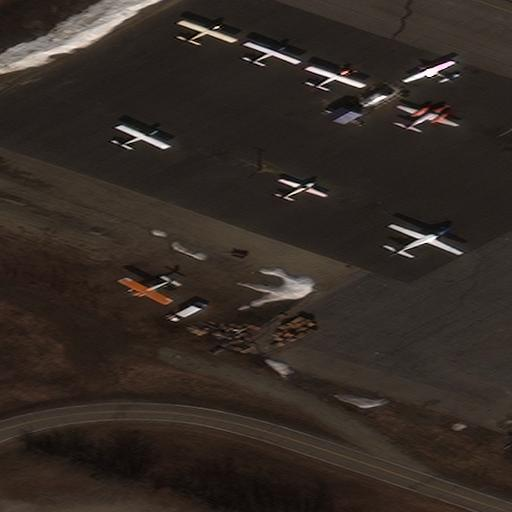Medium Civil Transport: (390, 223, 462, 256)
Small Civil Transport: (397, 104, 459, 132), (310, 64, 366, 87), (118, 280, 170, 304), (119, 124, 172, 147), (183, 19, 238, 41), (248, 40, 302, 62), (400, 60, 452, 80), (280, 178, 328, 198)
